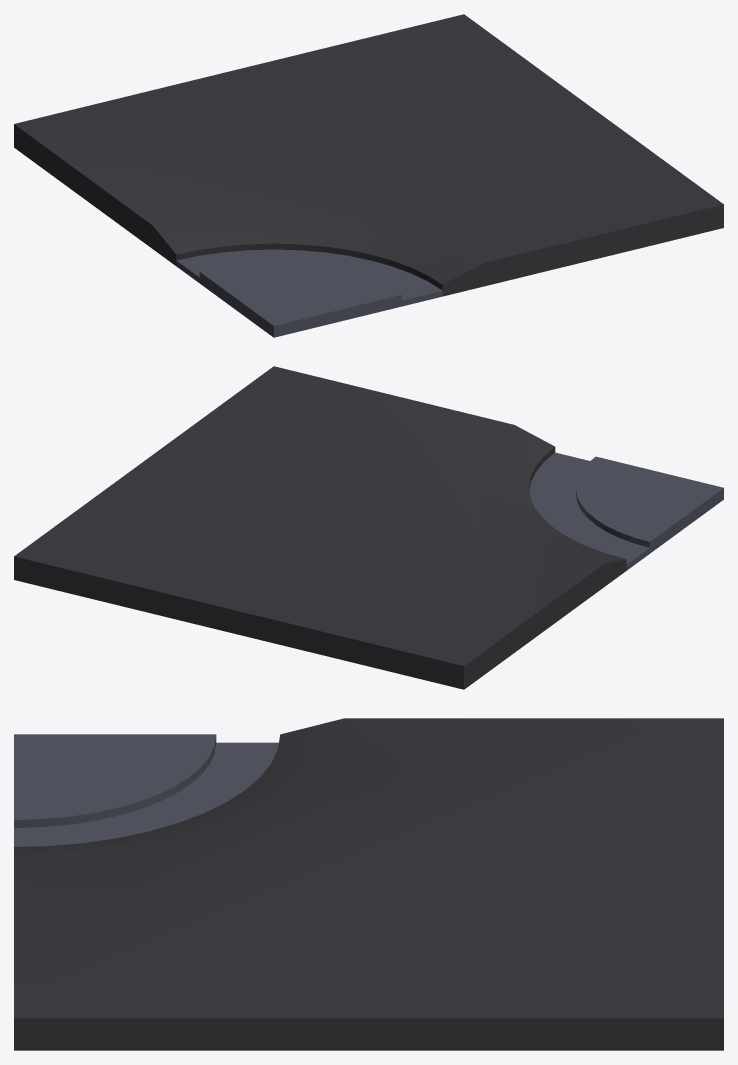
Rendered from road-corner-inner.glb.
3 renders of one model, top to bottom at view 1: azimuth 30°, elevation 25°; view 2: azimuth 150°, elevation 25°; view 3: azimuth 270°, elevation 25°, orthographic. The views are drawn at different scales.
Visible parts, largest first — view 1: road-corner-inner; view 2: road-corner-inner; view 3: road-corner-inner.
Boxes of the visible parts, x1,y1,x2,y2 form: road-corner-inner: (14, 14, 723, 337); road-corner-inner: (14, 366, 723, 689); road-corner-inner: (14, 718, 723, 1050).
Bounding box in the file's own units: 1 × 0.05 × 1.
Materials: 1 (1 with a texture image).
